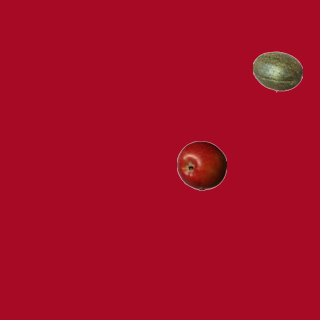Apple Braeburn: (176, 140, 226, 190)
Melon Piel de Sapo: (252, 46, 302, 96)
